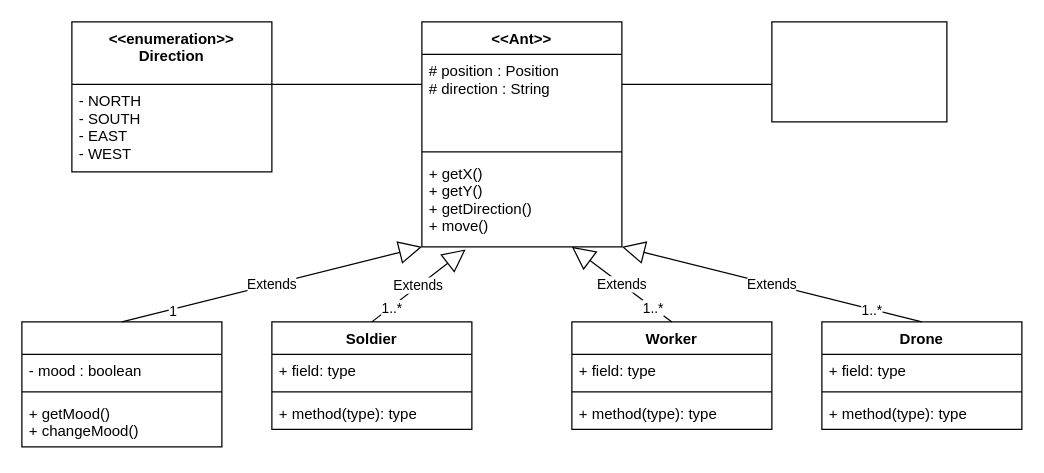
Image size: 1044x473. Some labels were removed from this diagram. Here are the shapes that lost their labels. From the top down, the box of each, then its label:
(771, 21, 947, 122): Position - positionX : int - positionY : int
(21, 321, 222, 447): Queen
